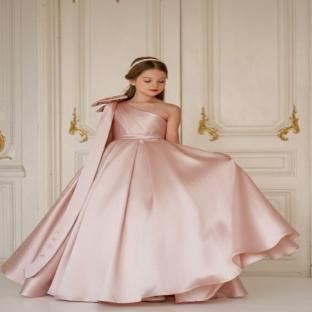Human: (2, 57, 299, 303)
